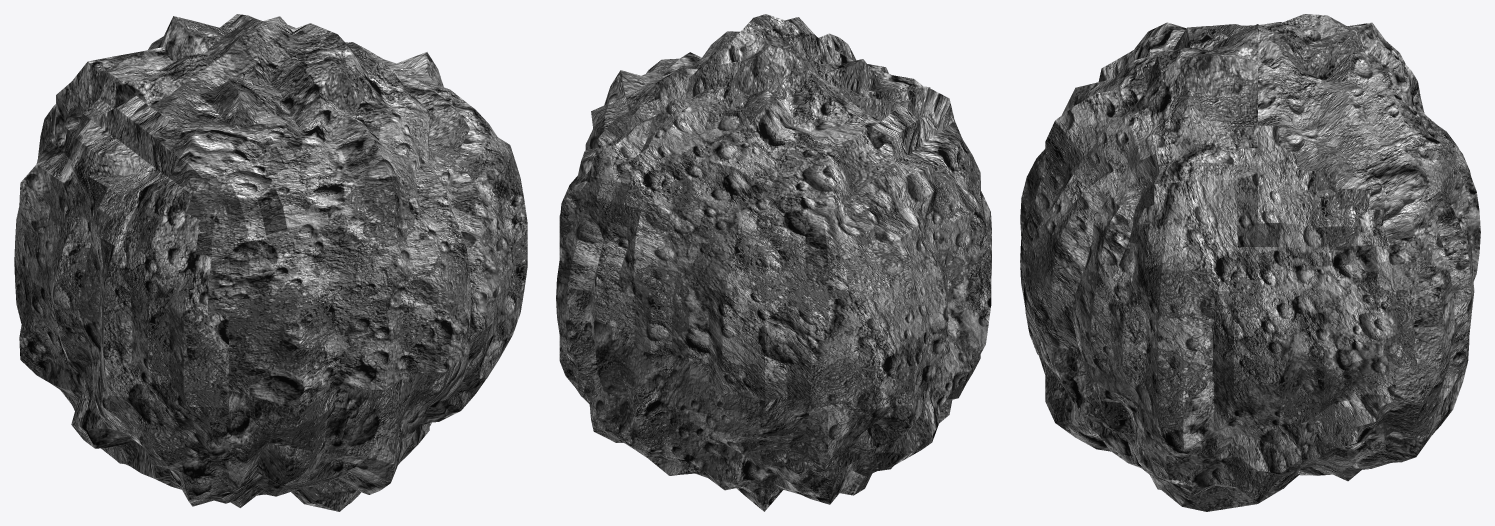
File: asteroid170.obj
The picture shows the model from 3 angles, left to right: view 1: azimuth 30°, elevation 25°; view 2: azimuth 150°, elevation 25°; view 3: azimuth 270°, elevation 25°; orthographic projection. The views are drawn at different scales.
Visible parts, largest first — view 1: Cube_Cube.002; view 2: Cube_Cube.002; view 3: Cube_Cube.002.
Part boxes in pixels (bbox=[...]): Cube_Cube.002: bbox=[14, 14, 527, 511]; Cube_Cube.002: bbox=[556, 14, 991, 511]; Cube_Cube.002: bbox=[1020, 14, 1480, 511].
Bounding box in the file's own units: 1.74 × 1.89 × 1.71.
